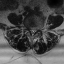CCS_normal: (31, 28, 33, 37)
LFS_severe_stenosis: (36, 27, 38, 32)
LLS_stenosis: (33, 28, 36, 35)
RFS_severe_stenosis: (27, 26, 29, 33)
RLS_stenosis: (29, 27, 31, 34)
